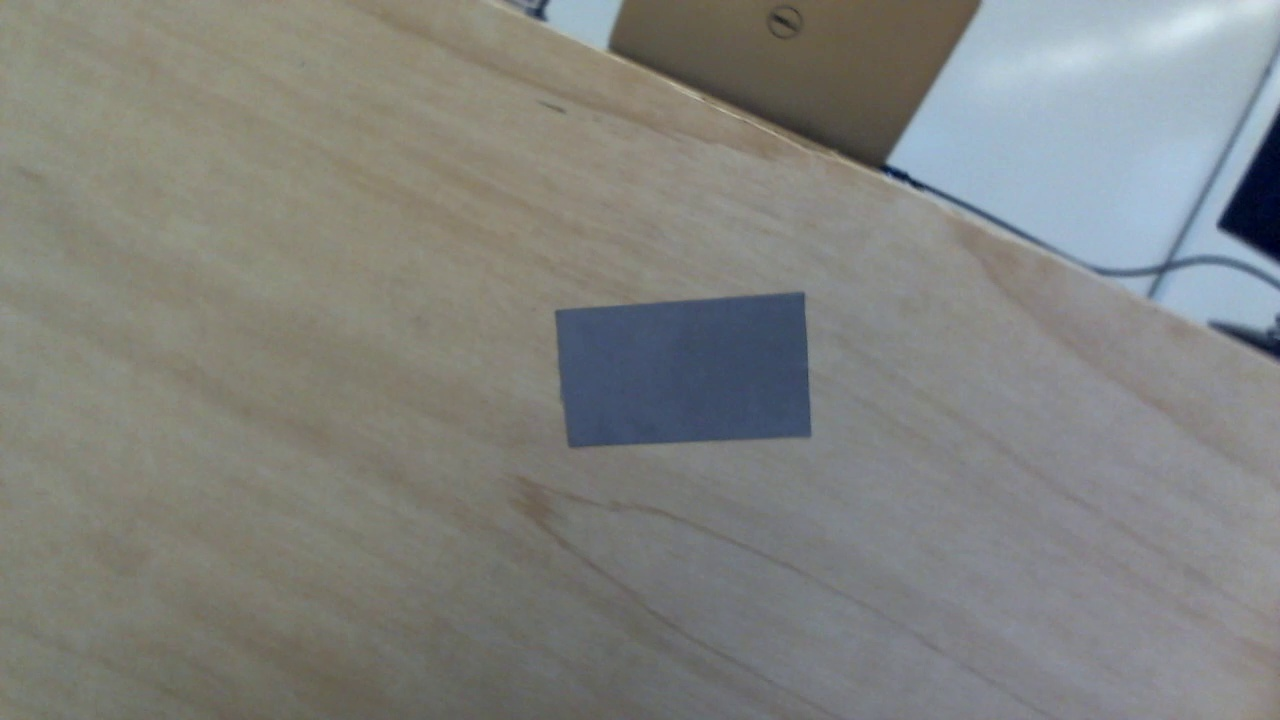Tape: (556, 292, 813, 451)
